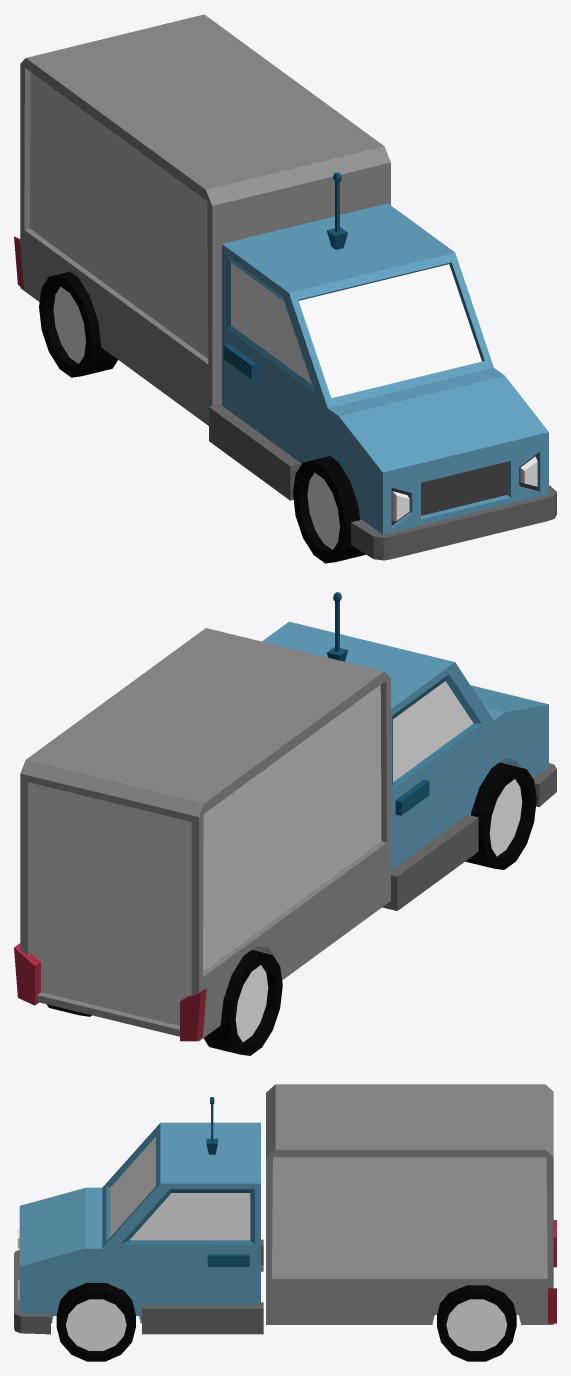
Rendered from SportsCarLowPoly_4.fbx.
3 renders of one model, top to bottom at view 1: azimuth 30°, elevation 25°; view 2: azimuth 150°, elevation 25°; view 3: azimuth 270°, elevation 25°, orthographic. The views are drawn at different scales.
Parts seen in each view (by area): view 1: Cube.001, Cube, Cylinder, Cube.004, Cube.003, Cube.002, Cube.006; view 2: Cube.001, Cube, Cylinder, Cube.003, Cube.007, Cube.004, Cube.006; view 3: Cube.001, Cube, Cylinder, Cube.003, Cube.004, Cube.006, Cube.007.
Part boxes in pixels (left/top/right/bottom): Cube.001: left=20, top=14, right=390, bottom=425; Cube: left=222, top=203, right=548, bottom=534; Cylinder: left=39, top=271, right=365, bottom=563; Cube.004: left=351, top=485, right=556, bottom=560; Cube.003: left=209, top=404, right=301, bottom=500; Cube.002: left=392, top=456, right=537, bottom=521; Cube.006: left=223, top=344, right=257, bottom=379; Cube.001: left=20, top=628, right=390, bottom=1041; Cube: left=262, top=621, right=548, bottom=870; Cylinder: left=47, top=762, right=536, bottom=1055; Cube.003: left=382, top=814, right=478, bottom=910; Cube.007: left=14, top=943, right=206, bottom=1041; Cube.004: left=533, top=763, right=556, bottom=806; Cube.006: left=395, top=779, right=429, bottom=815; Cube.001: left=266, top=1084, right=553, bottom=1324; Cube: left=19, top=1122, right=260, bottom=1323; Cylinder: left=56, top=1283, right=516, bottom=1361; Cube.003: left=142, top=1239, right=263, bottom=1334; Cube.004: left=14, top=1250, right=50, bottom=1334; Cube.006: left=207, top=1254, right=249, bottom=1266; Cube.007: left=548, top=1220, right=556, bottom=1323.
Size of the model in its own units: 245 by 376 by 806.
Materials: 1 (1 with a texture image).
